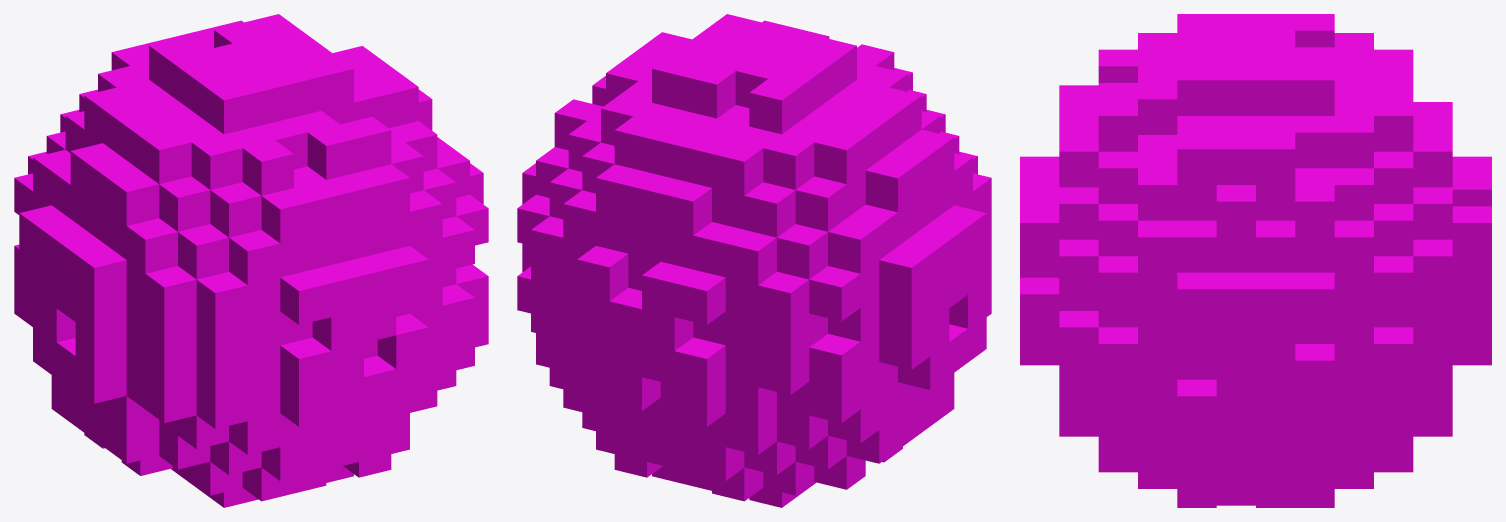
The model's file is planeta-12a.obj.
3 renders of one model, left to right at view 1: azimuth 30°, elevation 25°; view 2: azimuth 150°, elevation 25°; view 3: azimuth 270°, elevation 25°, orthographic. The views are drawn at different scales.
Size of the model in its own units: 1.2 by 1.2 by 1.2.
Materials: 1 (1 with a texture image).
